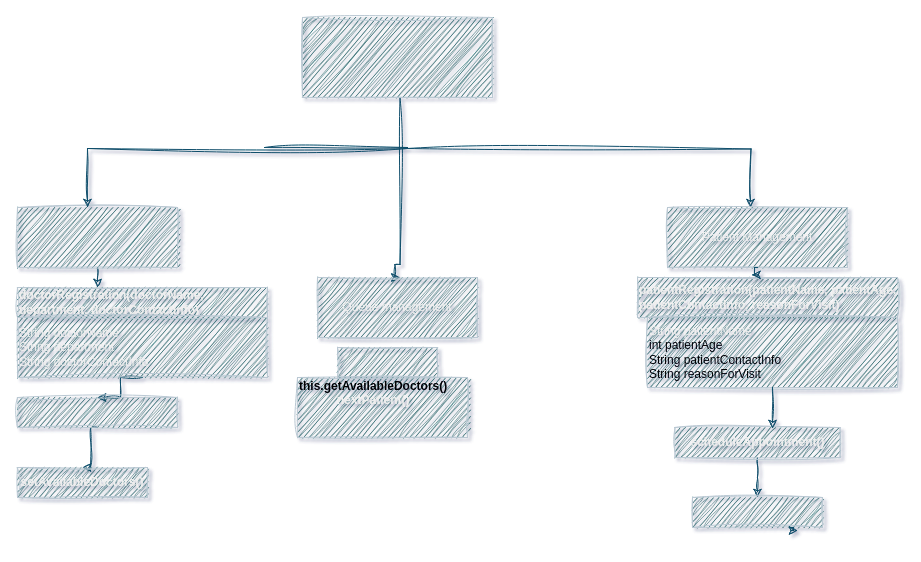
Some shapes in this 921 by 562 pixel diagram are drawn without their labels. The shapes that lost their labels are listed below. From the top down, each one's box as (x1, y1, x2, y2) in pixels, then its label:
(302, 16, 492, 98): Hospital Records
(16, 206, 178, 268): Doctor Management
(336, 346, 438, 378): patientQueue()
(16, 396, 178, 428): viewRegisteredDoctors()
(692, 496, 822, 528): setScheduling()
